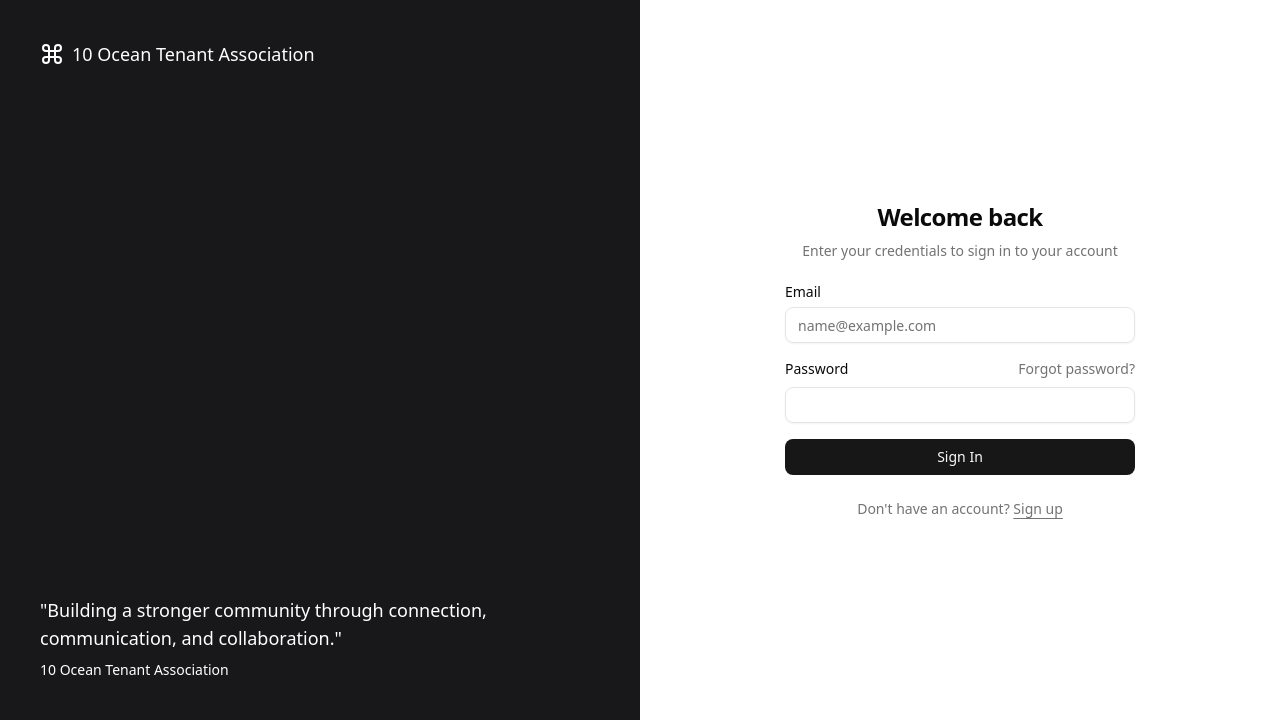
it: LoginPage › displays an error message when login fails
# Fill in all required fields
Type "test@example.com" into the field labelled "Email".
click(960, 325); type("test@example.com")  # box left=785, top=307, right=1135, bottom=343
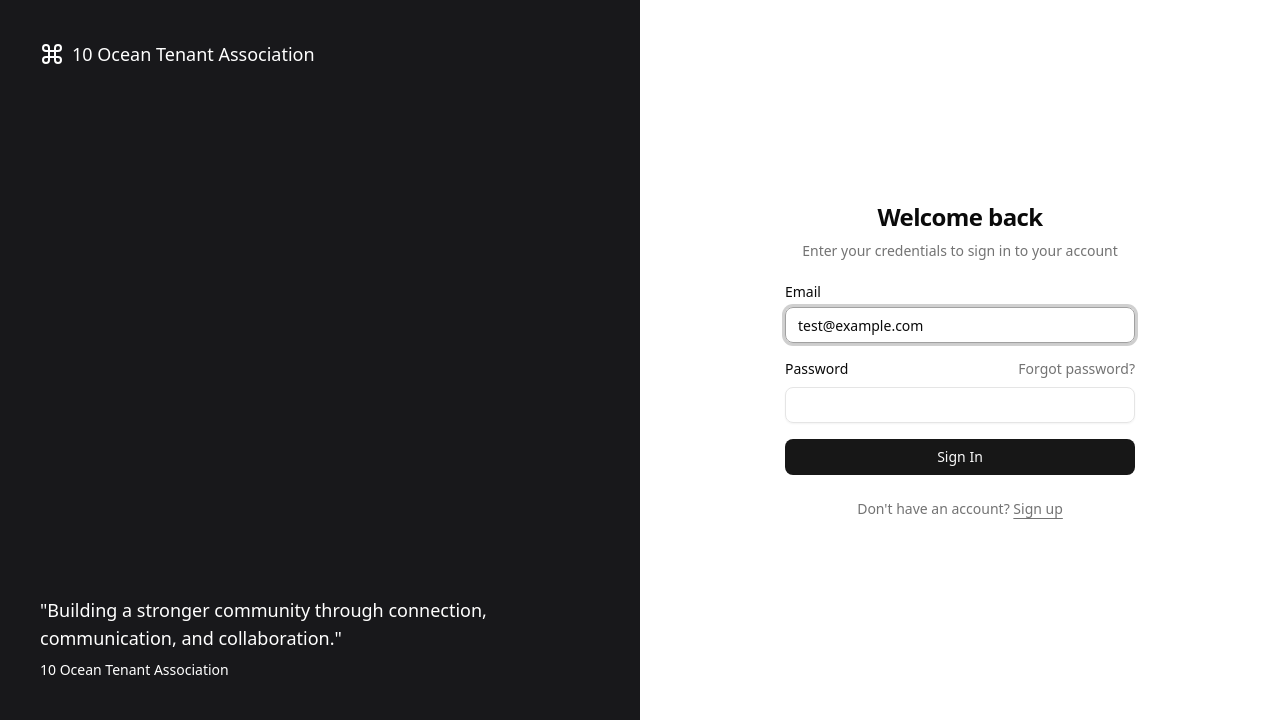
Type "WrongPassword123" into the password field labelled "Password".
click(960, 405); type("WrongPassword123")  # box left=785, top=387, right=1135, bottom=423
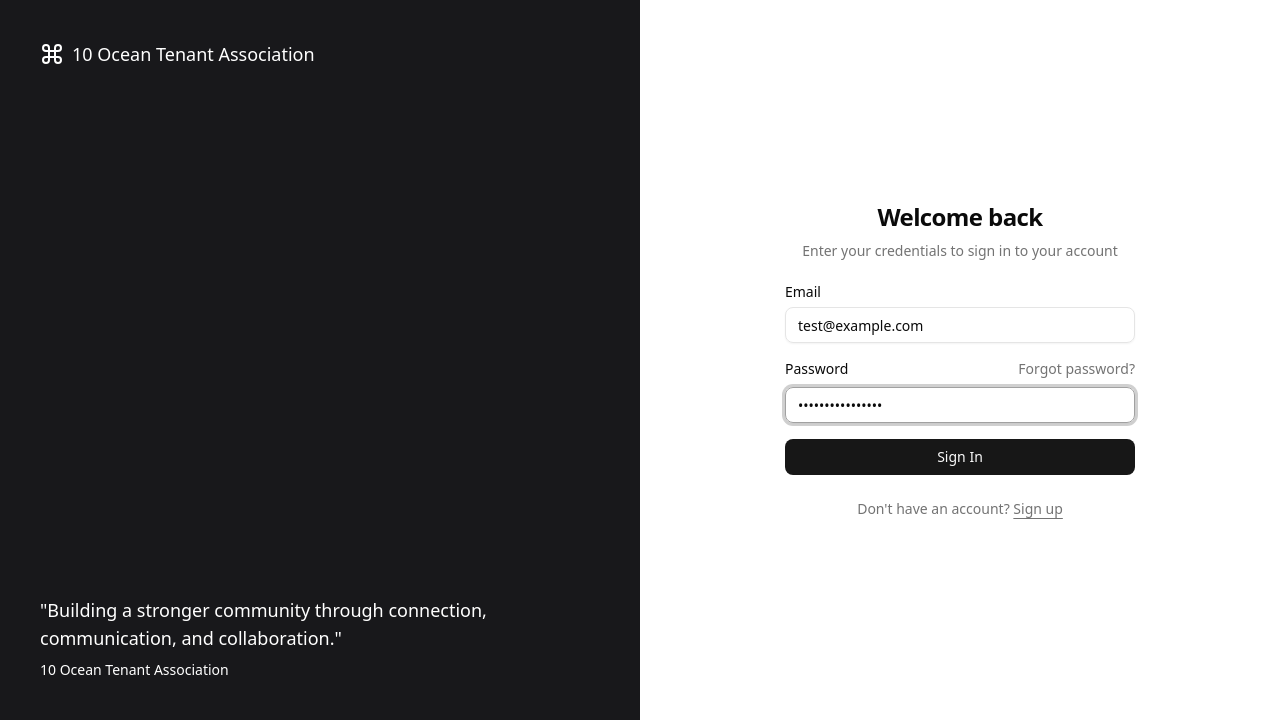
# Submit the form
Click the button "Sign In".
click(960, 457)  # box left=785, top=439, right=1135, bottom=475
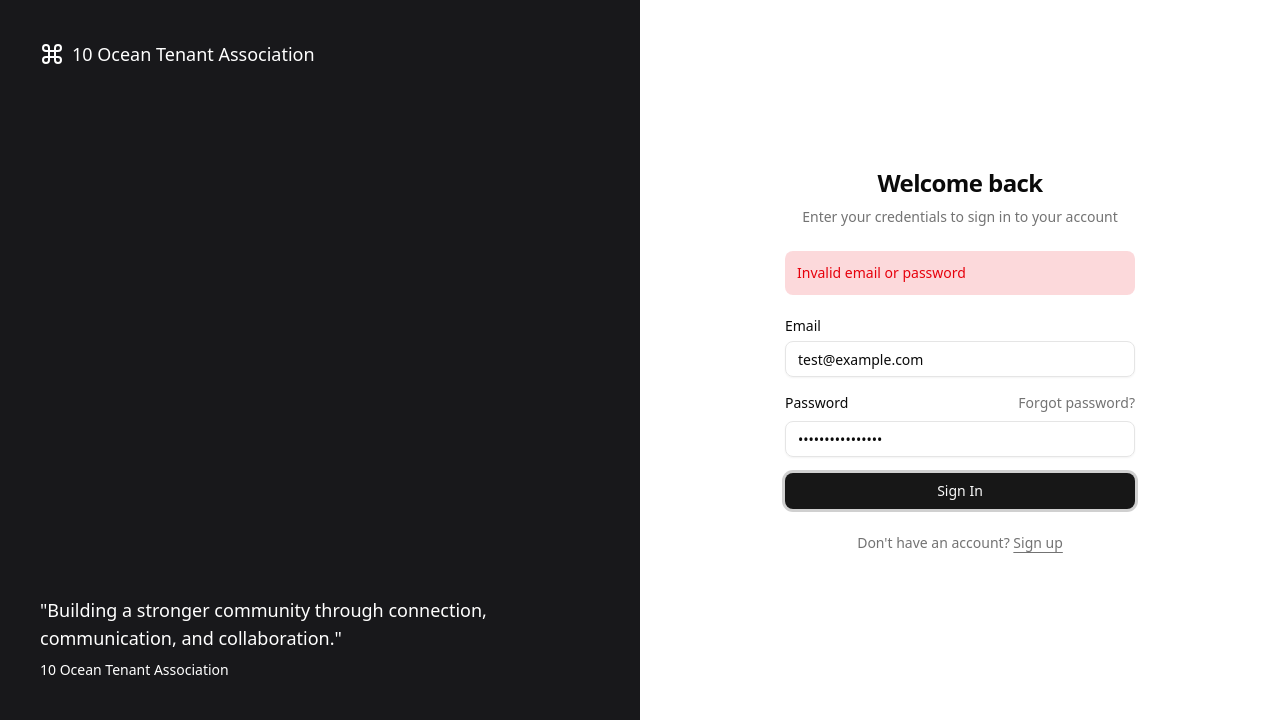
Expected: the text "Invalid email or password" is shown, left=785, top=251, right=1135, bottom=295
